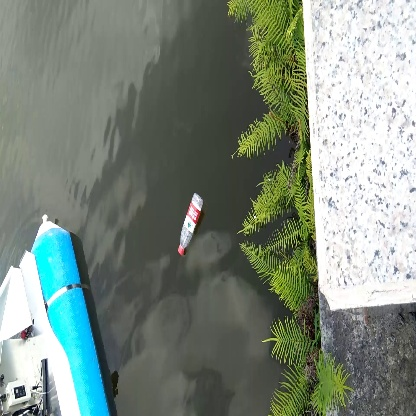bottle: (175, 192, 205, 258)
